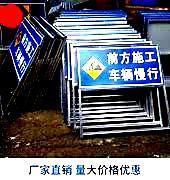sign: (79, 49, 162, 86), (5, 28, 35, 73)
